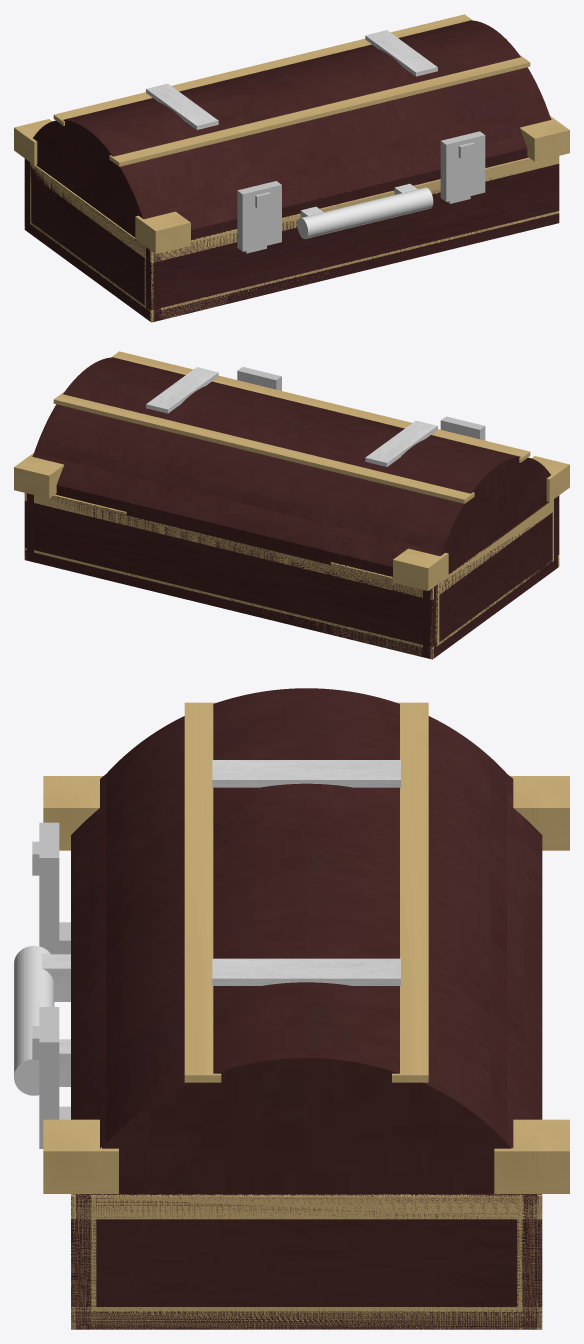
Rendered from Bag_Suitcase_Suitcase__0009.glb.
3 views of the same model, one above another, from view 1: azimuth 30°, elevation 25°; view 2: azimuth 150°, elevation 25°; view 3: azimuth 270°, elevation 25° (orthographic). The views are drawn at different scales.
Parts seen in each view (by area): view 1: suitcase_lid::dome_shell, suitcase_body::wall_front, suitcase_body::wall_left, suitcase_lid::dome_end_0, suitcase_body::shell_panel, suitcase_lid::dome_band_1, suitcase_body::handle_grip, suitcase_lid::dome_band_0, suitcase_body::body_band_1, latch_right::latch_plate, latch_left::latch_plate, suitcase_lid::lid_corner_2 (+8 smaller); view 2: suitcase_lid::dome_shell, suitcase_body::wall_back, suitcase_body::wall_left, suitcase_lid::dome_end_0, suitcase_body::shell_panel, suitcase_lid::dome_band_0, suitcase_body::body_band_3, suitcase_lid::dome_band_1, suitcase_lid::lid_corner_0, suitcase_body::body_band_2, suitcase_lid::lid_corner_1, suitcase_body::body_band_5 (+7 smaller); view 3: suitcase_lid::dome_shell, suitcase_lid::dome_end_1, suitcase_body::wall_right, suitcase_body::body_band_7, suitcase_lid::dome_band_1, suitcase_lid::dome_band_0, suitcase_body::body_band_6, suitcase_body::shell_panel, suitcase_lid::lid_corner_1, suitcase_lid::lid_corner_3, suitcase_lid::lid_strap_1, suitcase_lid::lid_strap_0 (+10 smaller).
Boxes of the visible parts, box(x1,y1,x2,y2) form: suitcase_lid::dome_shell: box(33, 20, 551, 239); suitcase_body::wall_front: box(146, 164, 559, 311); suitcase_body::wall_left: box(30, 165, 160, 321); suitcase_lid::dome_end_0: box(33, 120, 142, 237); suitcase_body::shell_panel: box(30, 213, 559, 321); suitcase_lid::dome_band_1: box(109, 55, 530, 166); suitcase_body::handle_grip: box(297, 187, 433, 238); suitcase_lid::dome_band_0: box(53, 14, 472, 125); suitcase_body::body_band_1: box(150, 156, 559, 262); latch_right::latch_plate: box(440, 131, 485, 201); latch_left::latch_plate: box(237, 181, 281, 251); suitcase_lid::lid_corner_2: box(135, 211, 190, 253); suitcase_lid::dome_shell: box(32, 357, 550, 576); suitcase_body::wall_back: box(34, 496, 437, 650); suitcase_body::wall_left: box(423, 502, 552, 658); suitcase_lid::dome_end_0: box(441, 457, 550, 574); suitcase_body::shell_panel: box(24, 550, 557, 659); suitcase_lid::dome_band_0: box(53, 392, 474, 503); suitcase_body::body_band_3: box(34, 494, 433, 599); suitcase_lid::dome_band_1: box(111, 351, 530, 462); suitcase_lid::lid_corner_0: box(393, 548, 448, 590); suitcase_body::body_band_2: box(34, 550, 433, 658); suitcase_lid::lid_corner_1: box(14, 453, 63, 498); suitcase_body::body_band_5: box(430, 500, 552, 599); suitcase_lid::dome_shell: box(71, 688, 542, 1148); suitcase_lid::dome_end_1: box(71, 1050, 541, 1194); suitcase_body::wall_right: box(75, 1194, 540, 1326); suitcase_body::body_band_7: box(72, 1194, 539, 1219); suitcase_lid::dome_band_1: box(184, 702, 221, 1082); suitcase_lid::dome_band_0: box(392, 702, 428, 1082); suitcase_body::body_band_6: box(72, 1307, 540, 1329); suitcase_body::shell_panel: box(71, 1311, 541, 1329); suitcase_lid::lid_corner_1: box(494, 1119, 569, 1193); suitcase_lid::lid_corner_3: box(43, 1119, 118, 1193); suitcase_lid::lid_strap_1: box(212, 958, 400, 985); suitcase_lid::lid_strap_0: box(212, 760, 400, 787).
Size of the model in its own units: 0.5293 by 0.1812 by 0.3313.
Materials: 7 (5 with a texture image).
